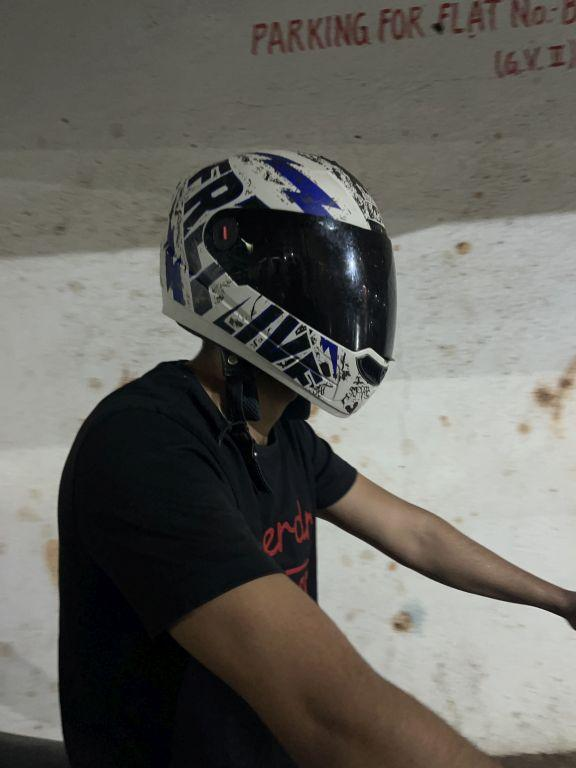helmet: (149, 147, 408, 442)
